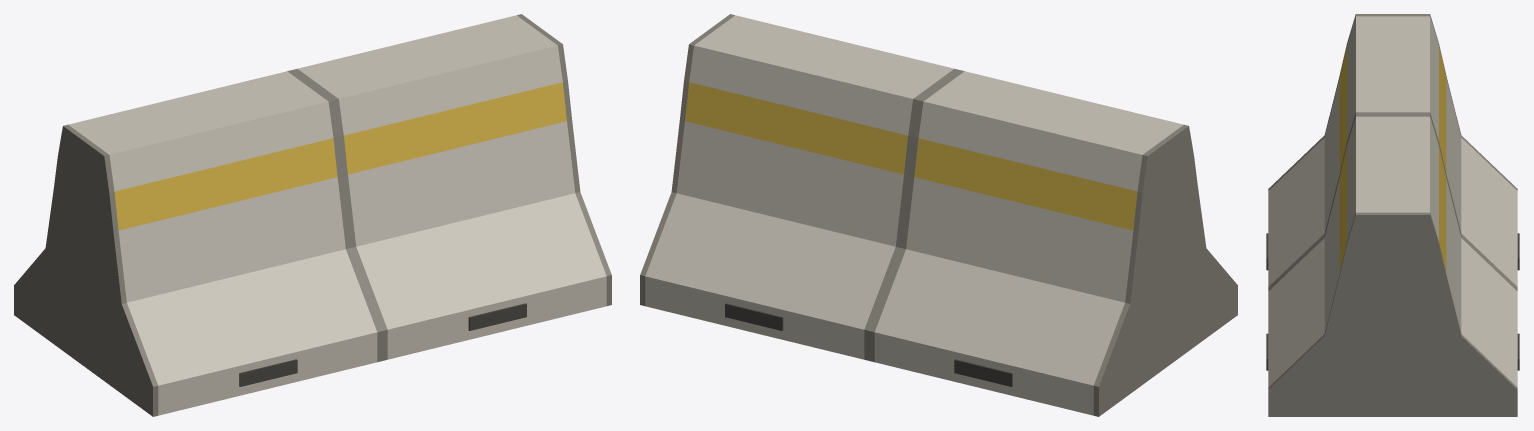
Rendered from jersey.glb.
The picture shows the model from 3 angles, left to right: view 1: azimuth 30°, elevation 25°; view 2: azimuth 150°, elevation 25°; view 3: azimuth 270°, elevation 25°; orthographic projection. The views are drawn at different scales.
Parts seen in each view (by area): view 1: jersey; view 2: jersey; view 3: jersey.
Boxes of the visible parts, bbox=[...] form: jersey: bbox=[14, 14, 611, 416]; jersey: bbox=[640, 14, 1237, 416]; jersey: bbox=[1266, 14, 1519, 416].
Size of the model in its own units: 8 by 3.75 by 4.26.
